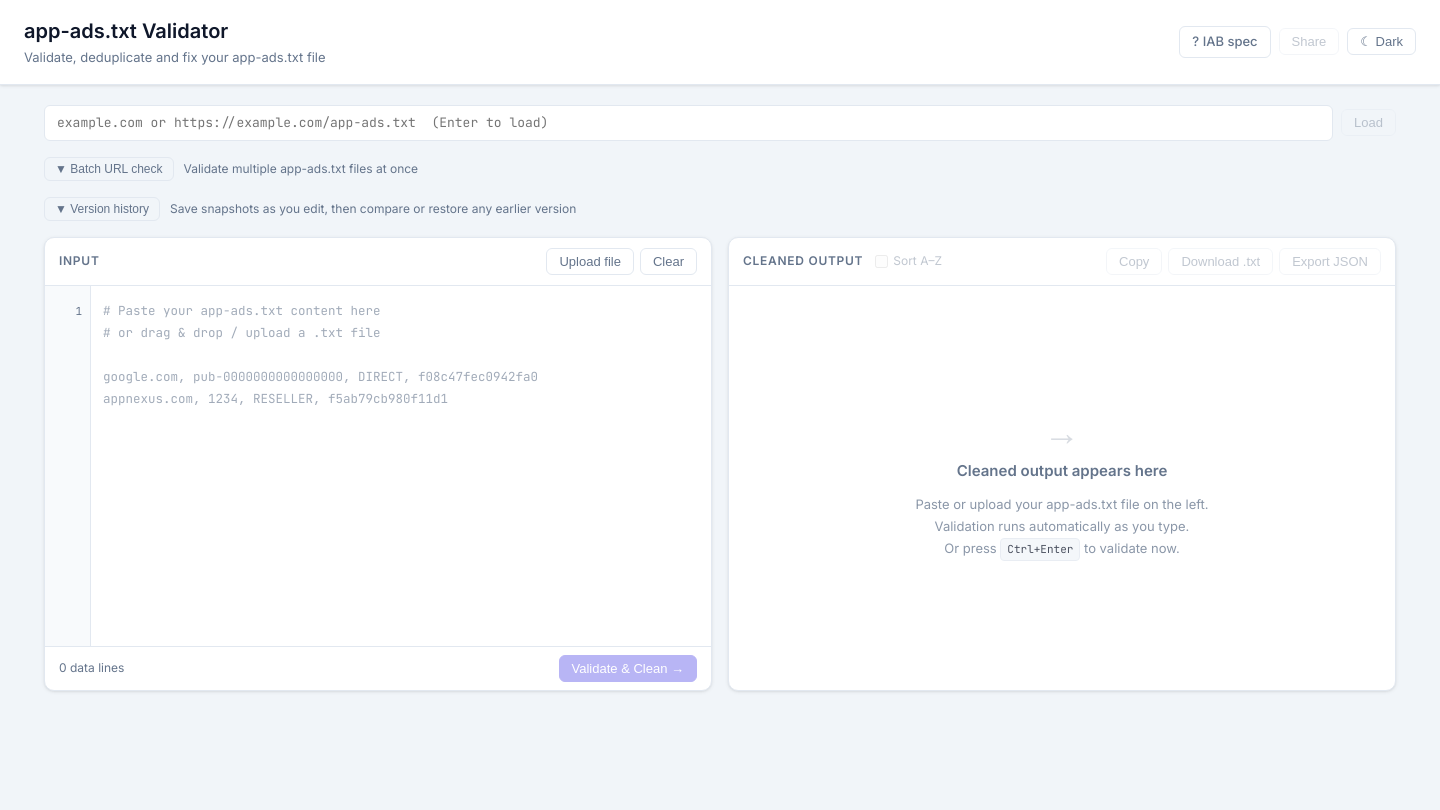
it: App — accessibility › exposes expanded state on collapsible toggles
Click the button "▼ Batch URL check": (109, 168) [44, 156, 174, 180]
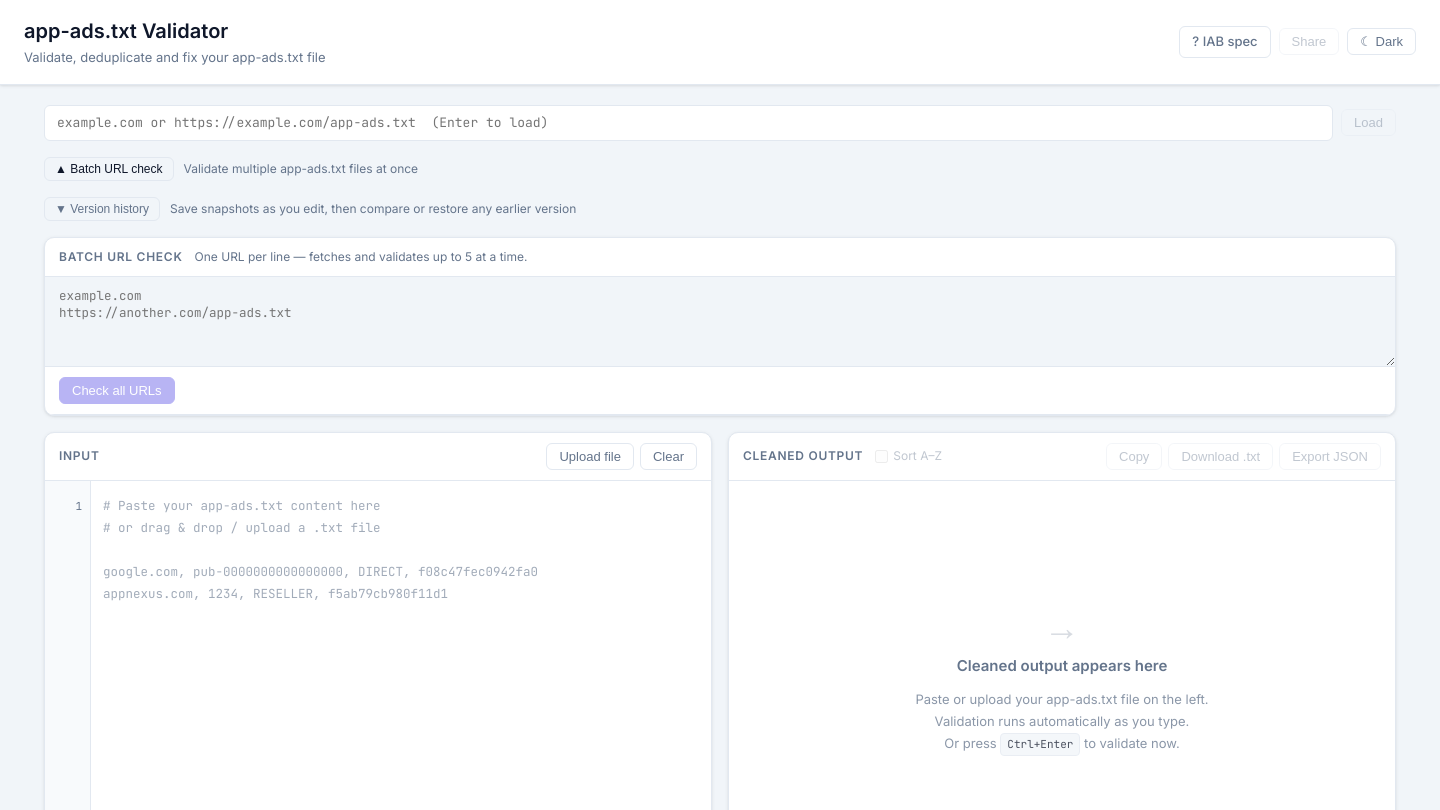
Expected: the button "▲ Batch URL check" is expanded, [44, 156, 174, 180]
